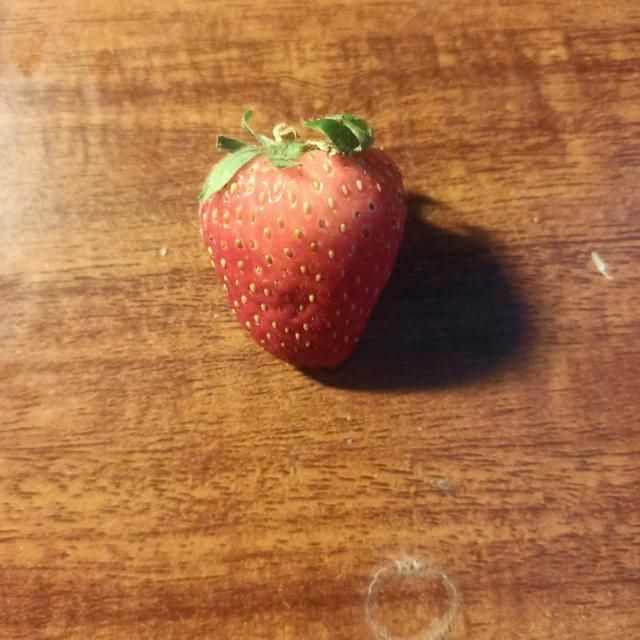DauTay: (191, 119, 413, 368)
